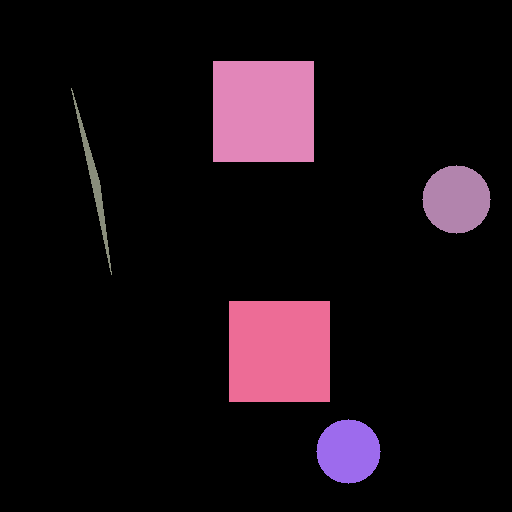circle: (422, 165, 490, 233), (316, 419, 380, 483)
square: (229, 301, 329, 401), (213, 61, 313, 161)
